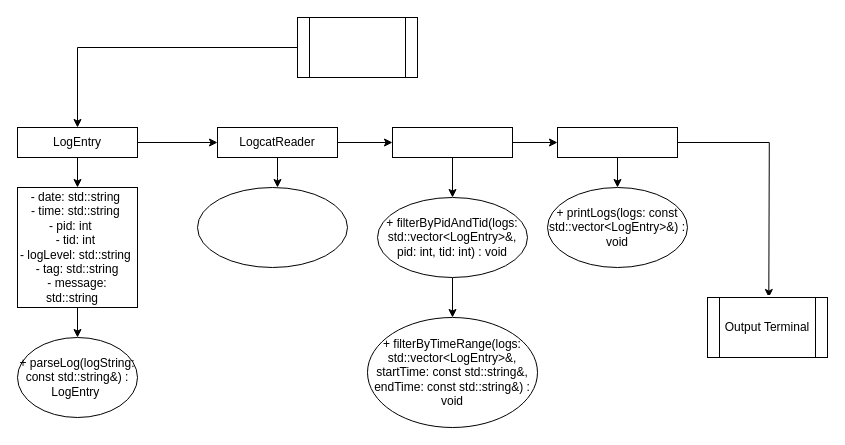
Some shapes in this 845 by 445 pixel diagram are drawn without their labels. Here are the shapes that lost their labels. From the top down, the centre of each, then its label:
At point 357,47: "Logcat File".
At point 452,142: "LogFilter".
At point 617,142: "LogPrinter".
At point 272,227: "+ readLogcatFile(filename: const std::string&) : std::vector".
